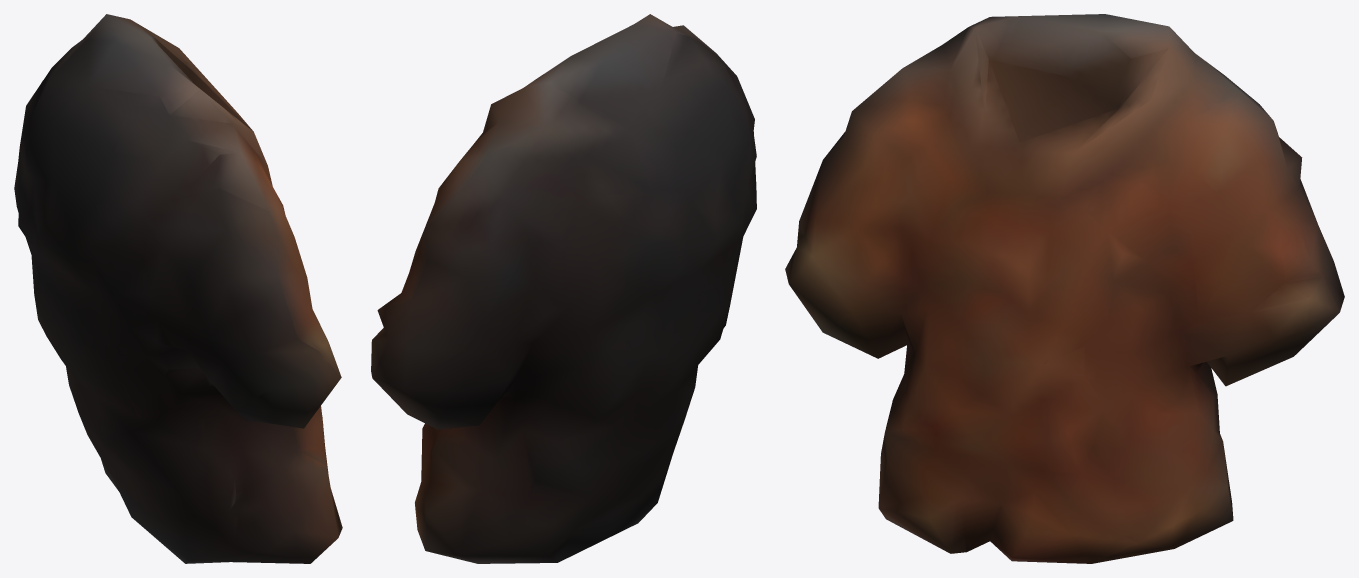
Rendered from mail_copper.glb.
3 renders of one model, left to right at view 1: azimuth 30°, elevation 25°; view 2: azimuth 150°, elevation 25°; view 3: azimuth 270°, elevation 25°, orthographic. The views are drawn at different scales.
Visible parts, largest first — view 1: model; view 2: model; view 3: model.
Part boxes in pixels (x1,y1,x2,y2): model: [14, 14, 342, 563]; model: [371, 14, 756, 563]; model: [785, 14, 1344, 563].
Size of the model in its own units: 0.2128 by 0.3893 by 0.3995.
1 material, 1 textured.
